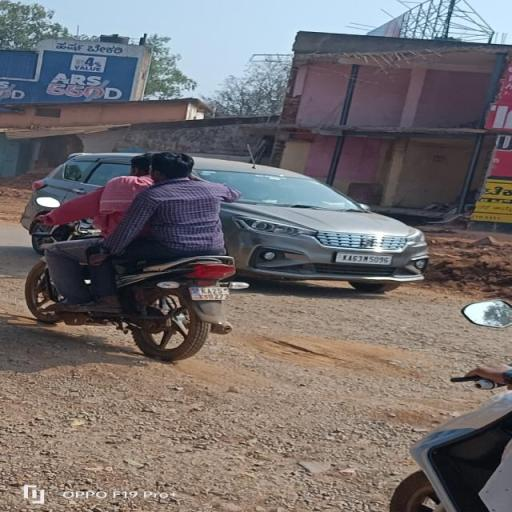bike: (25, 150, 248, 361)
numberplate: (190, 287, 232, 301)
withouthelmet: (154, 152, 192, 180), (131, 154, 151, 176)
